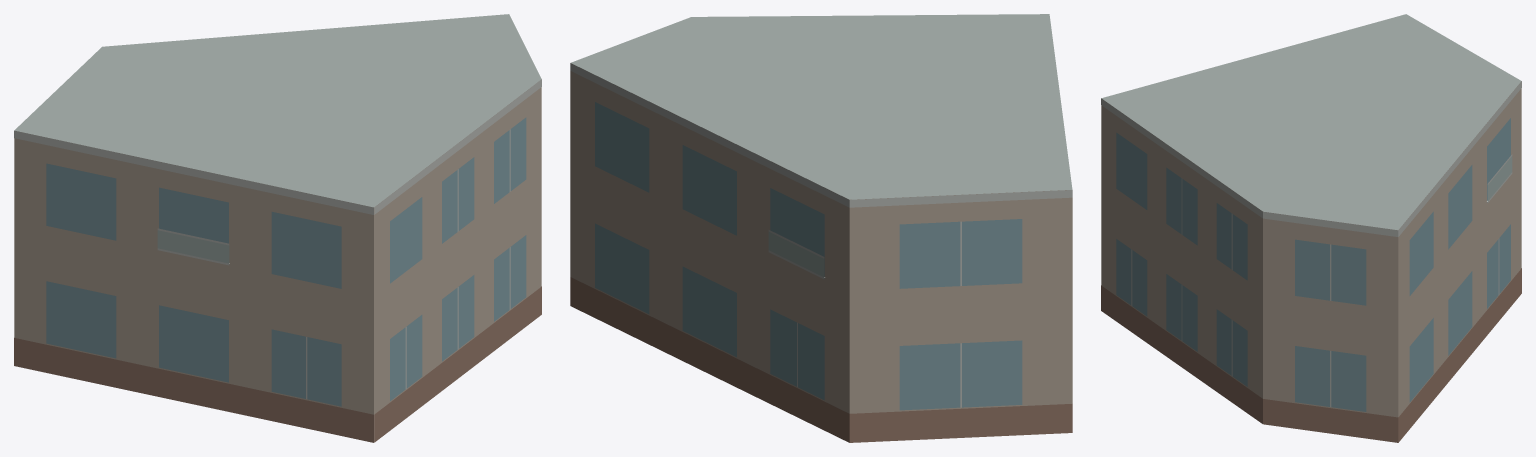
Rendered from survey-upis-32616928.glb.
3 views of the same model, side by side, from view 1: azimuth 30°, elevation 25°; view 2: azimuth 150°, elevation 25°; view 3: azimuth 270°, elevation 25° (orthographic). The views are drawn at different scales.
Visible parts, largest first — view 1: survey-upis-32616928.tmp; view 2: survey-upis-32616928.tmp; view 3: survey-upis-32616928.tmp.
Boxes of the visible parts, x1,y1,x2,y2 form: survey-upis-32616928.tmp: (14, 14, 541, 442); survey-upis-32616928.tmp: (570, 14, 1072, 442); survey-upis-32616928.tmp: (1101, 14, 1521, 442).
Size of the model in its own units: 16.37 by 7.5 by 13.45.
